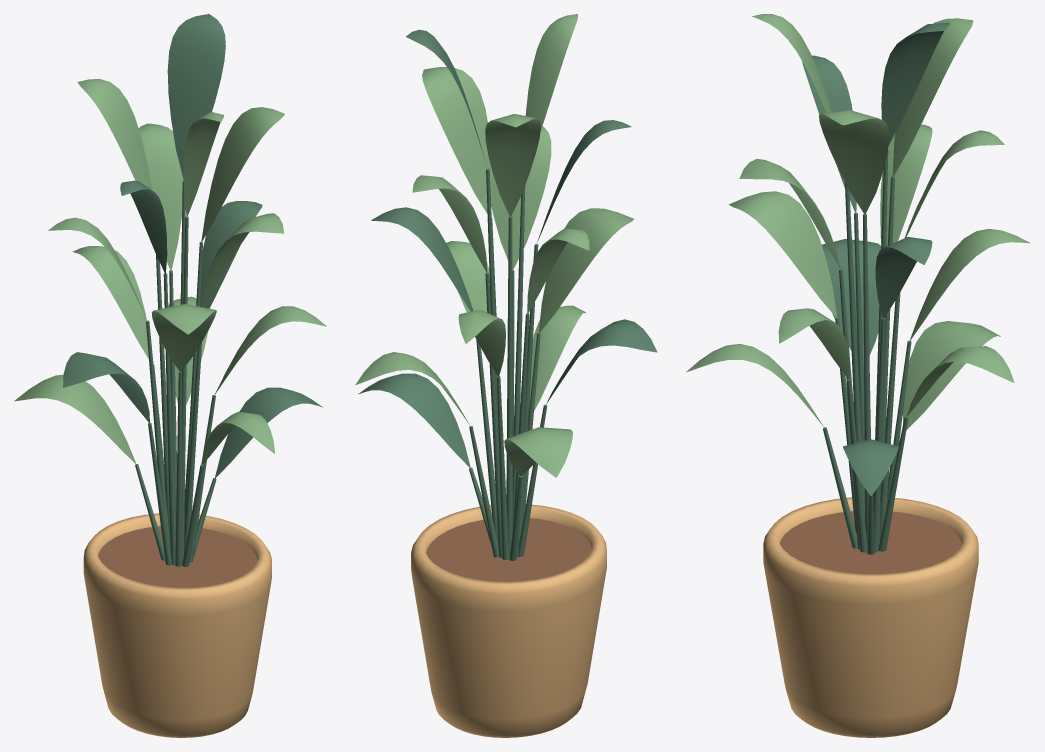
Rendered from kit_plant_large_v1.glb.
The picture shows the model from 3 angles, left to right: view 1: azimuth 30°, elevation 25°; view 2: azimuth 150°, elevation 25°; view 3: azimuth 270°, elevation 25°; orthographic projection. The views are drawn at different scales.
Parts seen in each view (by area): view 1: body; view 2: body; view 3: body.
Boxes of the visible parts, box(x1,y1,x2,y2) form: body: box(14, 14, 326, 737); body: box(355, 14, 657, 737); body: box(686, 14, 1030, 737).
Size of the model in its own units: 0.7 by 1.6 by 0.7.
